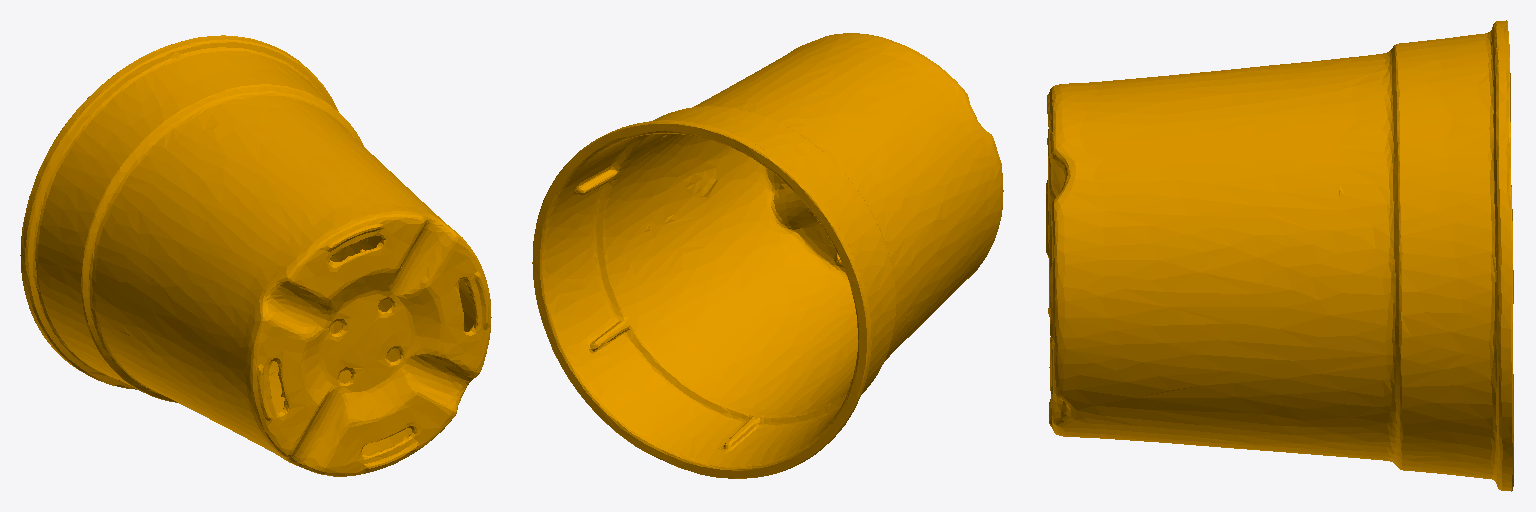
robot.urdf — model.urdf:
<?xml version="0.0" ?>
<robot name="model.urdf">
  <link name="baseLink">
    <visual>
			<origin xyz="0 0 0" rpy="-1.57 0 0"/>
      <geometry>
        <mesh filename="model.obj" scale="0.75 0.75 0.75"/>
      </geometry>
      <material name="white">
        <texture filename="assets/urdf_models/models/AllergenFree_JarroDophilus_1/texture.png"/>
      </material>
    </visual>
    <collision>
      <geometry>
    	 	<mesh filename="model.obj" scale="0.75 0.75 0.75"/>
      </geometry>
    </collision>
    <inertial>
			<mass value="0.12664"/>
			<inertia  ixx="0.000626" ixy="0.00" ixz="0.00" iyy="0.000626" iyz="0.00" izz="0.000942" />
		</inertial>
  </link>
</robot>

--- Render facts (derived) ---
3 views of the same robot in one strip: view 1: azimuth 30°, elevation 25°; view 2: azimuth 150°, elevation 25°; view 3: azimuth 270°, elevation 25° (orthographic).
Robot: model.urdf — 1 links, 0 joints (none); root link baseLink; default pose: all joints at 0.
Visible links, largest first — view 1: baseLink; view 2: baseLink; view 3: baseLink.
Link boxes in pixels (<box>): baseLink: <box>20,35,491,476</box>; baseLink: <box>532,33,1003,478</box>; baseLink: <box>1046,20,1513,491</box>.
Bounding box of the posed robot: 0.122 × 0.121 × 0.1212 m (x, y, z).
Meshes: 1 distinct files referenced, 1 mesh visuals loaded (1 OBJ).